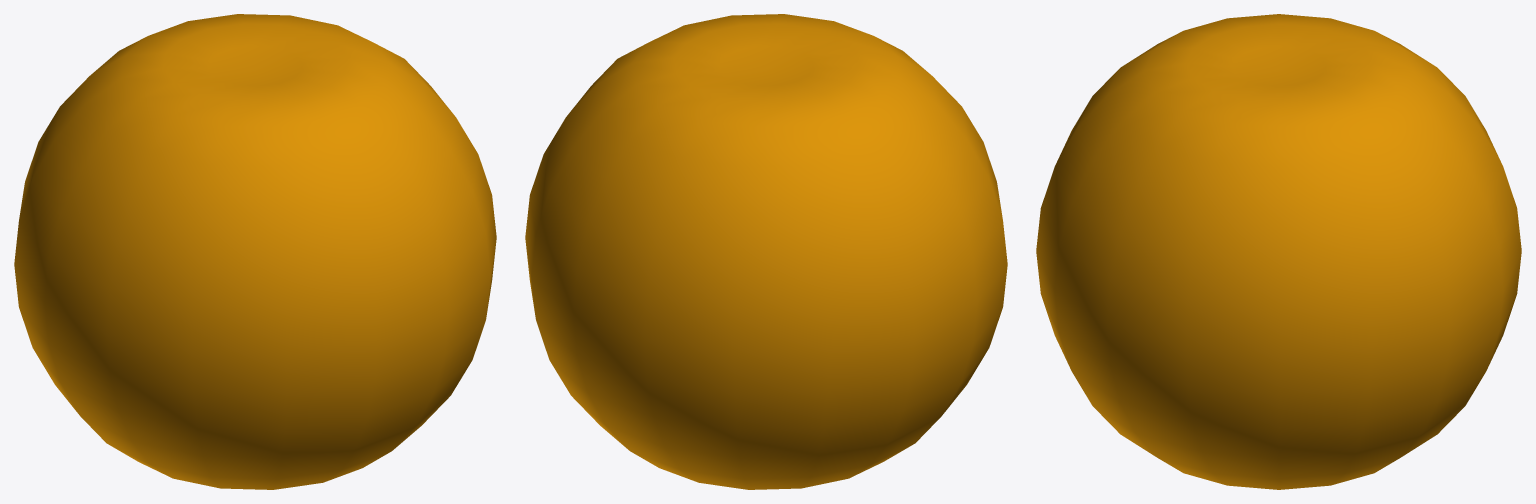
File: Orange.fbx
The picture shows the model from 3 angles, left to right: view 1: azimuth 30°, elevation 25°; view 2: azimuth 150°, elevation 25°; view 3: azimuth 270°, elevation 25°; orthographic projection.
Visible parts, largest first — view 1: Orange; view 2: Orange; view 3: Orange.
Part boxes in pixels (<box>): Orange: <box>14,14,496,489</box>; Orange: <box>525,14,1007,489</box>; Orange: <box>1036,14,1521,489</box>.
Bounding box in the file's own units: 1.23 × 1.1 × 1.23.
